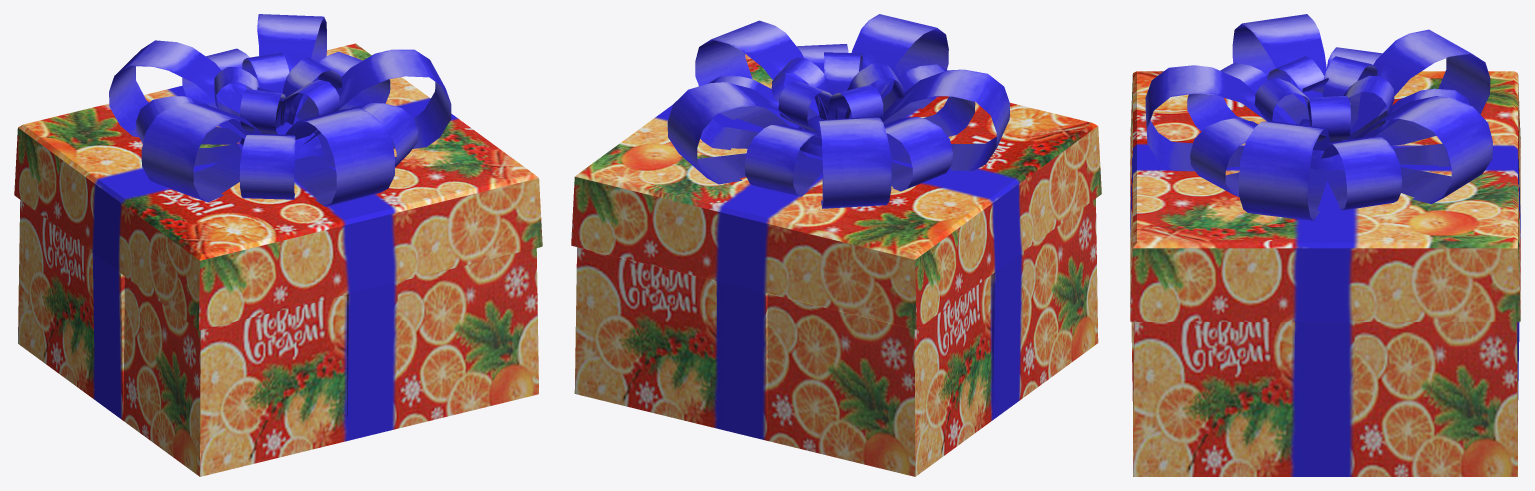
File: podarok.glb
3 renders of one model, left to right at view 1: azimuth 30°, elevation 25°; view 2: azimuth 150°, elevation 25°; view 3: azimuth 270°, elevation 25°, orthographic. The views are drawn at different scales.
Visible parts, largest first — view 1: 1__Material__122; view 2: 1__Material__122; view 3: 1__Material__122.
Part boxes in pixels (bbox=[...]): 1__Material__122: bbox=[14, 14, 542, 476]; 1__Material__122: bbox=[571, 14, 1101, 476]; 1__Material__122: bbox=[1130, 14, 1520, 476].
Size of the model in its own units: 2.37 by 1.94 by 2.2.
Materials: 1 (1 with a texture image).
